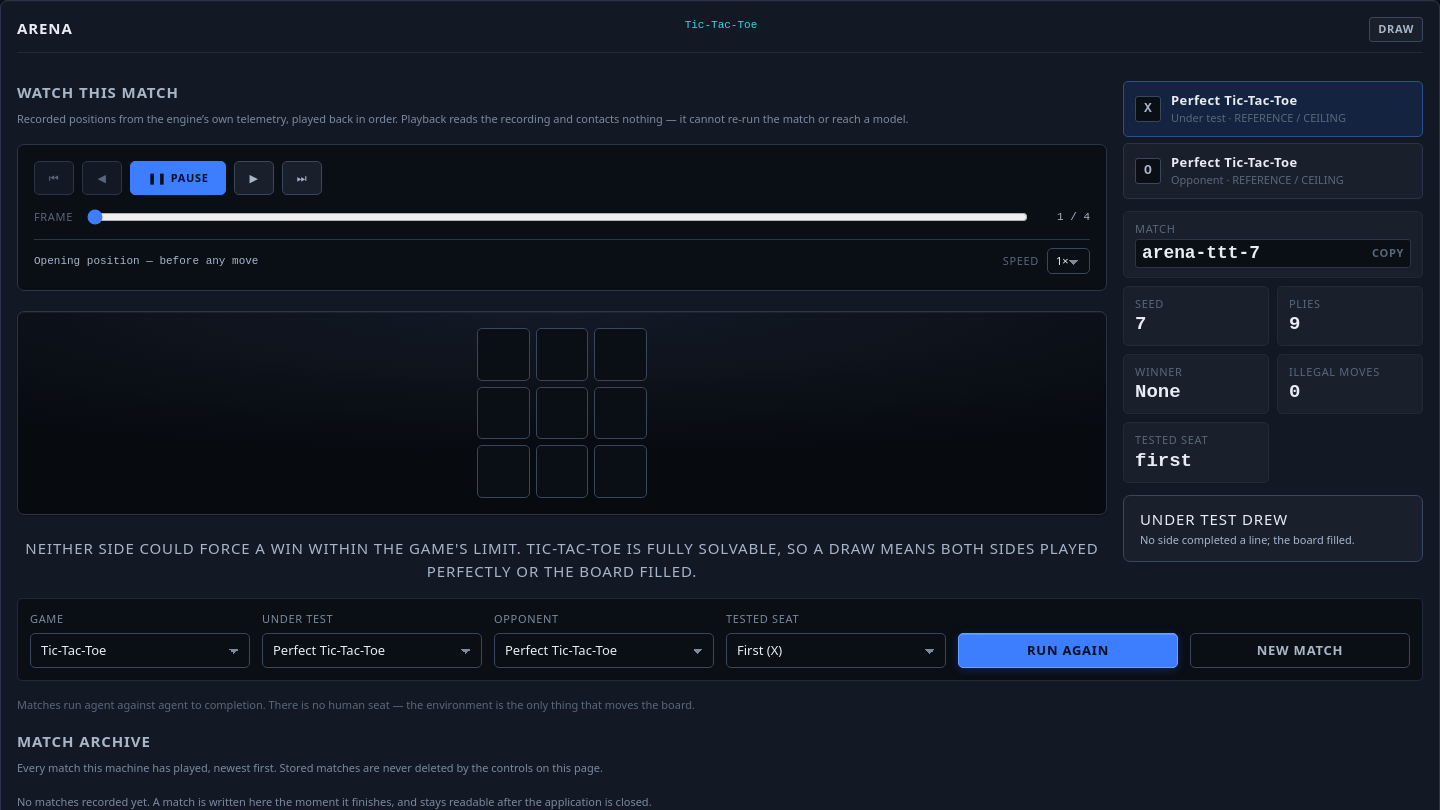
it: ArenaPanel — board rendering › describes each cell for assistive technology, so the board is not colour-only
The width and height of the screenshot is (1440, 810).
Click the button named "Go to the last frame": (302, 178) x1=282 y1=161 x2=322 y2=195
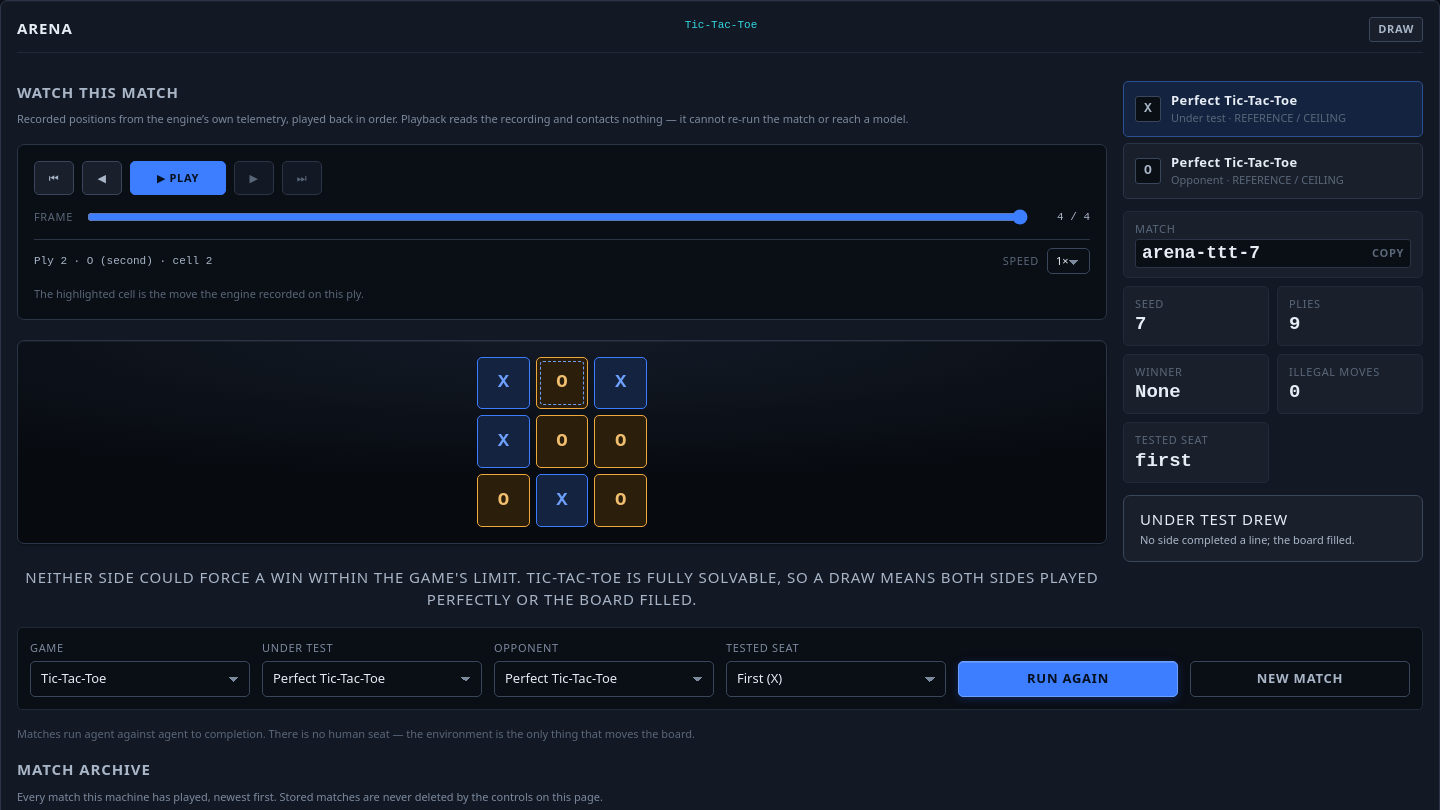
Expected: the picture named "board" is shown, x1=477 y1=356 x2=647 y2=526
Expected: the element named "Cell 1: X" is shown, x1=477 y1=356 x2=530 y2=409
